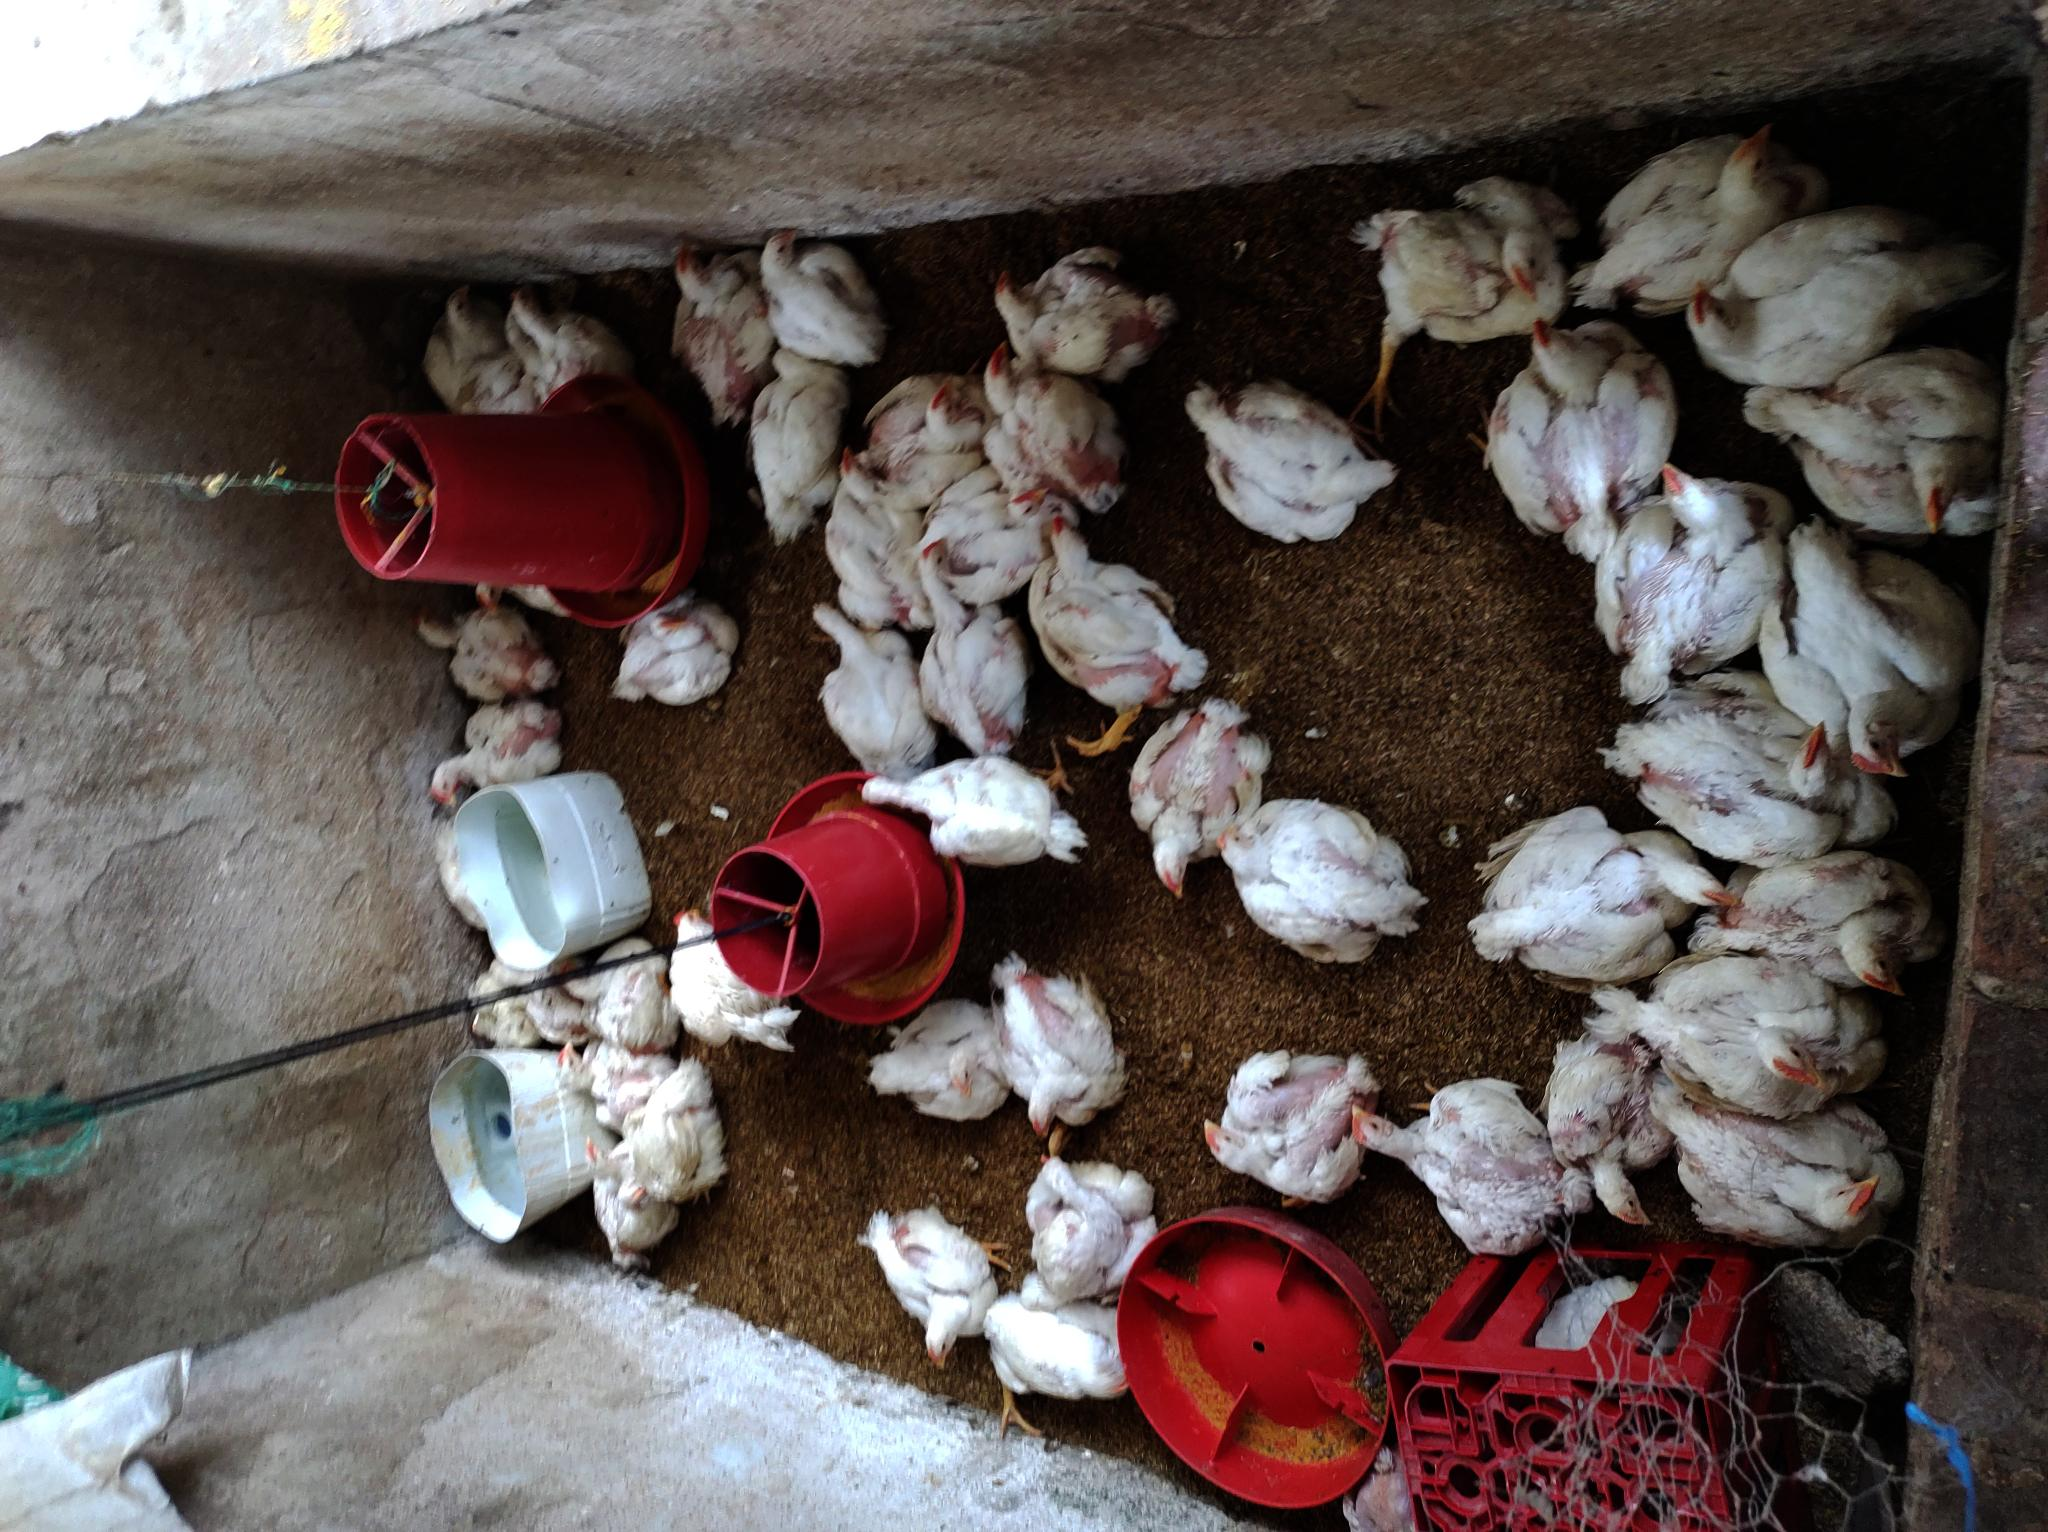Pollos: (1680, 206, 2005, 381), (1615, 669, 1900, 867), (1773, 517, 1979, 789), (1480, 798, 1741, 995), (1485, 312, 1680, 562), (1612, 953, 1892, 1123), (1742, 354, 2006, 534), (1591, 116, 1829, 312), (1599, 457, 1791, 690), (1363, 169, 1585, 370), (1342, 1073, 1581, 1258), (1696, 837, 1945, 1004), (1659, 1078, 1906, 1246), (1178, 373, 1396, 555), (1213, 793, 1435, 967), (1022, 513, 1207, 715), (1199, 1048, 1392, 1217), (853, 745, 1088, 879), (899, 534, 1034, 756), (988, 941, 1131, 1146), (1548, 1007, 1675, 1238), (1131, 694, 1273, 900), (972, 330, 1137, 502), (989, 243, 1176, 381), (980, 1271, 1139, 1432), (795, 592, 935, 772), (857, 1207, 1001, 1381), (914, 452, 1083, 592), (660, 233, 779, 422), (1017, 1146, 1162, 1300), (668, 901, 796, 1057), (750, 344, 845, 554), (824, 441, 928, 624), (755, 220, 883, 364), (866, 999, 1014, 1122), (857, 375, 996, 497), (422, 277, 544, 414), (425, 698, 565, 813), (615, 587, 742, 705), (615, 1060, 709, 1215), (510, 278, 629, 401), (409, 607, 558, 698), (557, 940, 681, 1049), (581, 1130, 658, 1273), (552, 1036, 672, 1120), (470, 574, 558, 620)
